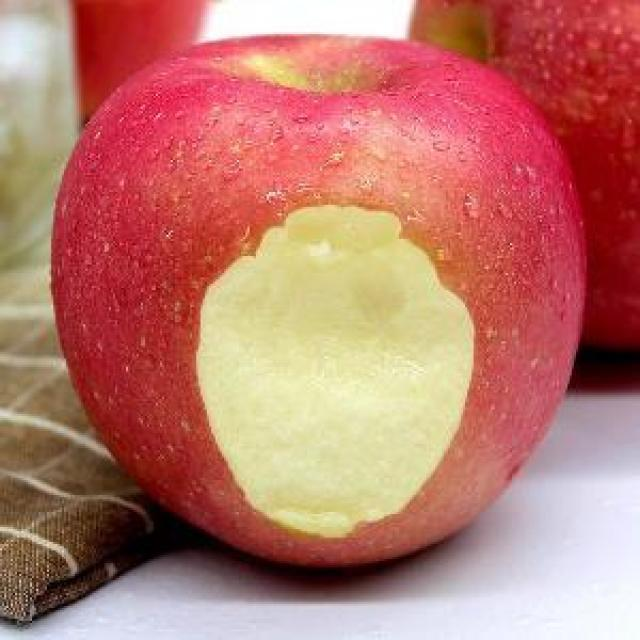Apple: (37, 23, 588, 575)
